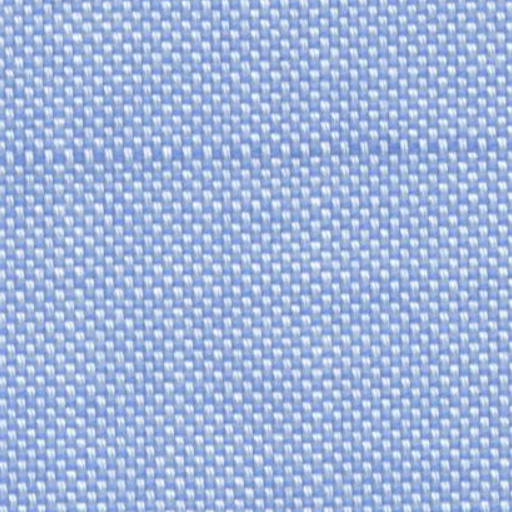TuoSha: (16, 114, 488, 179)
